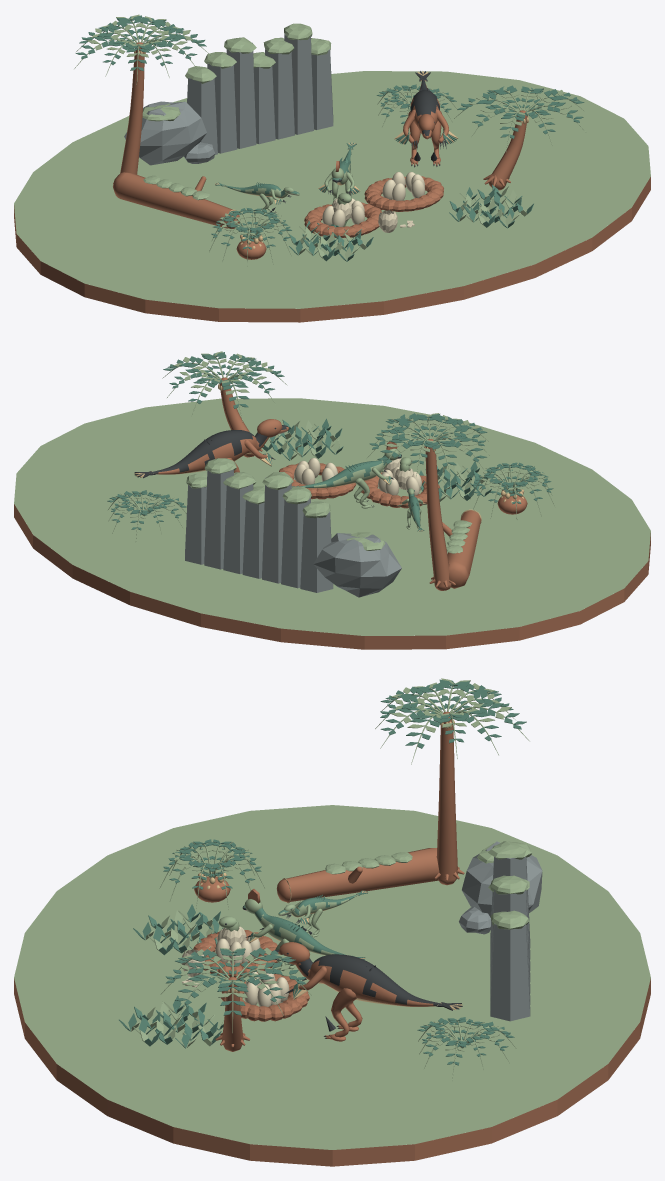
Rendered from primeval-frontier-nesting-colony-ef42f836__1790.glb.
3 renders of one model, top to bottom at view 1: azimuth 30°, elevation 25°; view 2: azimuth 150°, elevation 25°; view 3: azimuth 270°, elevation 25°, orthographic. The views are drawn at different scales.
Visible parts, largest first — view 1: 000-forest-habitat-base/1, 011-columnar-cliff/0, 000-forest-habitat-base/0, 015-basalt-boulder/0, 013-fallen-conifer-log/0, 011-columnar-cliff/1, 008-tree-fern-canopy/2, 009-tree-fern-crooked/2, 008-tree-fern-canopy/0, 008-tree-fern-canopy/1, 005-nest-clutch/0, 002-deinonychus/0 (+19 smaller); view 2: 000-forest-habitat-base/1, 011-columnar-cliff/0, 000-forest-habitat-base/0, 015-basalt-boulder/0, 011-columnar-cliff/1, 008-tree-fern-canopy/2, 008-tree-fern-canopy/0, 009-tree-fern-crooked/2, 008-tree-fern-canopy/1, 002-deinonychus/2, 002-deinonychus/0, 013-fallen-conifer-log/0 (+17 smaller); view 3: 000-forest-habitat-base/1, 000-forest-habitat-base/0, 011-columnar-cliff/0, 013-fallen-conifer-log/0, 008-tree-fern-canopy/2, 002-deinonychus/0, 008-tree-fern-canopy/0, 015-basalt-boulder/0, 009-tree-fern-crooked/2, 002-deinonychus/2, 008-tree-fern-canopy/1, 011-columnar-cliff/1 (+17 smaller).
Boxes of the visible parts, x1=… form: 000-forest-habitat-base/1: x1=14, y1=71, x2=650, y2=308; 011-columnar-cliff/0: x1=187, y1=33, x2=333, y2=154; 000-forest-habitat-base/0: x1=14, y1=177, x2=650, y2=322; 015-basalt-boulder/0: x1=124, y1=101, x2=215, y2=165; 013-fallen-conifer-log/0: x1=113, y1=172, x2=239, y2=228; 011-columnar-cliff/1: x1=185, y1=23, x2=331, y2=83; 008-tree-fern-canopy/2: x1=75, y1=15, x2=206, y2=70; 009-tree-fern-crooked/2: x1=457, y1=85, x2=584, y2=138; 008-tree-fern-canopy/0: x1=113, y1=42, x2=144, y2=183; 008-tree-fern-canopy/1: x1=74, y1=14, x2=210, y2=84; 005-nest-clutch/0: x1=364, y1=176, x2=443, y2=211; 002-deinonychus/0: x1=403, y1=83, x2=449, y2=165; 000-forest-habitat-base/1: x1=14, y1=398, x2=650, y2=635; 011-columnar-cliff/0: x1=185, y1=469, x2=333, y2=592; 000-forest-habitat-base/0: x1=14, y1=504, x2=650, y2=649; 015-basalt-boulder/0: x1=313, y1=533, x2=401, y2=597; 011-columnar-cliff/1: x1=186, y1=458, x2=330, y2=518; 008-tree-fern-canopy/2: x1=369, y1=413, x2=487, y2=466; 008-tree-fern-canopy/0: x1=425, y1=439, x2=455, y2=590; 009-tree-fern-crooked/2: x1=163, y1=352, x2=284, y2=408; 008-tree-fern-canopy/1: x1=366, y1=413, x2=489, y2=479; 002-deinonychus/2: x1=134, y1=425, x2=287, y2=478; 002-deinonychus/0: x1=149, y1=419, x2=288, y2=474; 013-fallen-conifer-log/0: x1=442, y1=510, x2=481, y2=588; 000-forest-habitat-base/1: x1=14, y1=805, x2=650, y2=1149; 000-forest-habitat-base/0: x1=14, y1=978, x2=650, y2=1166; 011-columnar-cliff/0: x1=490, y1=857, x2=530, y2=1021; 013-fallen-conifer-log/0: x1=276, y1=848, x2=439, y2=901; 008-tree-fern-canopy/2: x1=380, y1=679, x2=526, y2=748; 002-deinonychus/0: x1=278, y1=942, x2=435, y2=1041; 008-tree-fern-canopy/0: x1=434, y1=711, x2=464, y2=885; 015-basalt-boulder/0: x1=459, y1=841, x2=542, y2=934; 009-tree-fern-crooked/2: x1=165, y1=947, x2=306, y2=1015; 002-deinonychus/2: x1=272, y1=949, x2=462, y2=1038; 008-tree-fern-canopy/1: x1=375, y1=678, x2=529, y2=764; 011-columnar-cliff/1: x1=488, y1=841, x2=532, y2=929.
Bounding box in the file's own units: 17 × 4.73 × 13.26.
